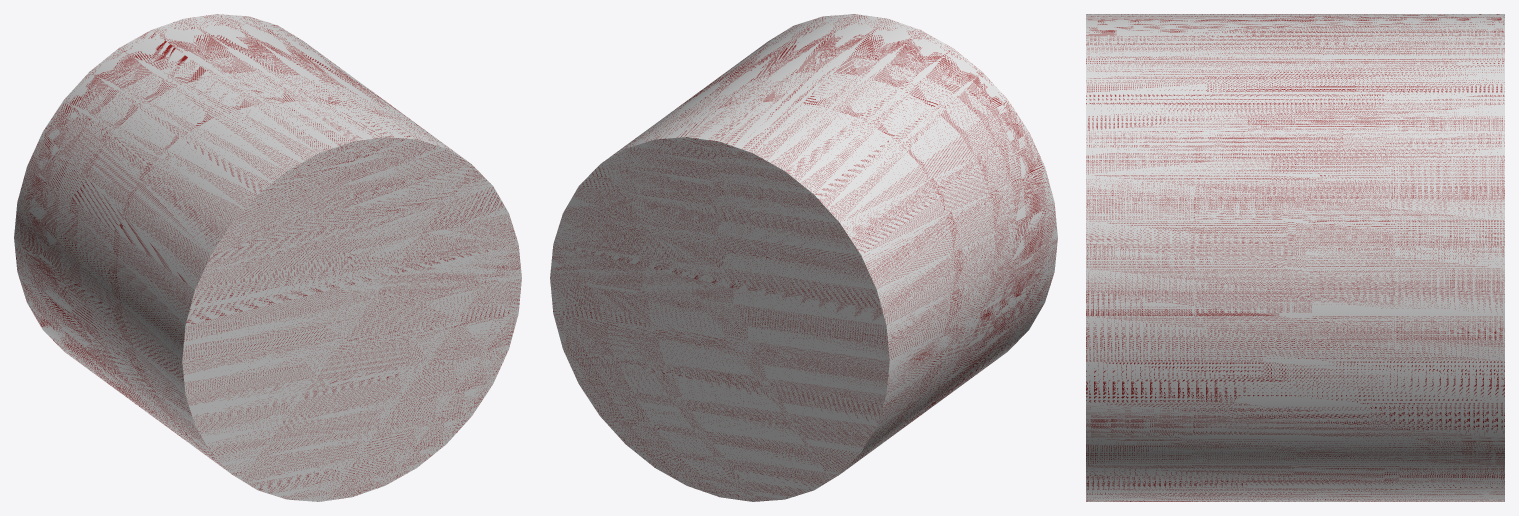
File: original-2.obj
3 renders of one model, left to right at view 1: azimuth 30°, elevation 25°; view 2: azimuth 150°, elevation 25°; view 3: azimuth 270°, elevation 25°, orthographic. The views are drawn at different scales.
Parts seen in each view (by area): view 1: mesh1/mesh1-geometry#mesh1-geometry; view 2: mesh1/mesh1-geometry#mesh1-geometry; view 3: mesh1/mesh1-geometry#mesh1-geometry.
Boxes of the visible parts, box(x1,y1,x2,y2) form: mesh1/mesh1-geometry#mesh1-geometry: box(14, 14, 521, 501); mesh1/mesh1-geometry#mesh1-geometry: box(550, 14, 1057, 501); mesh1/mesh1-geometry#mesh1-geometry: box(1086, 14, 1504, 501).
Bounding box in the file's own units: 0.3805 × 0.3805 × 0.3262.
